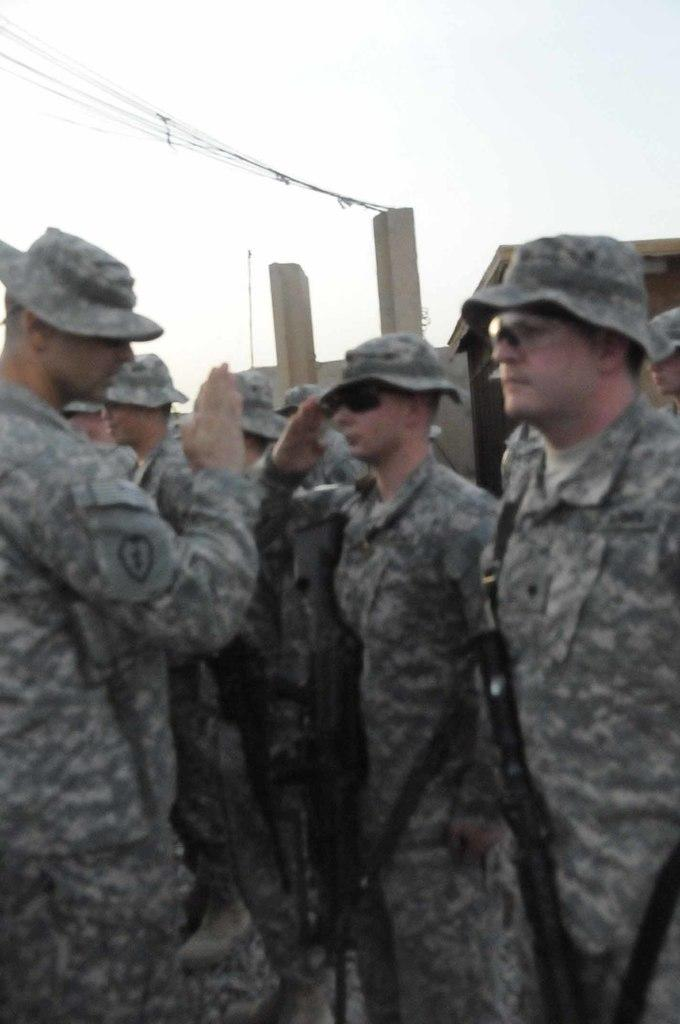Hat: (456, 231, 679, 356), (0, 224, 160, 341), (314, 322, 484, 416), (191, 369, 289, 441), (104, 350, 188, 414), (650, 306, 680, 358), (286, 382, 322, 414)
